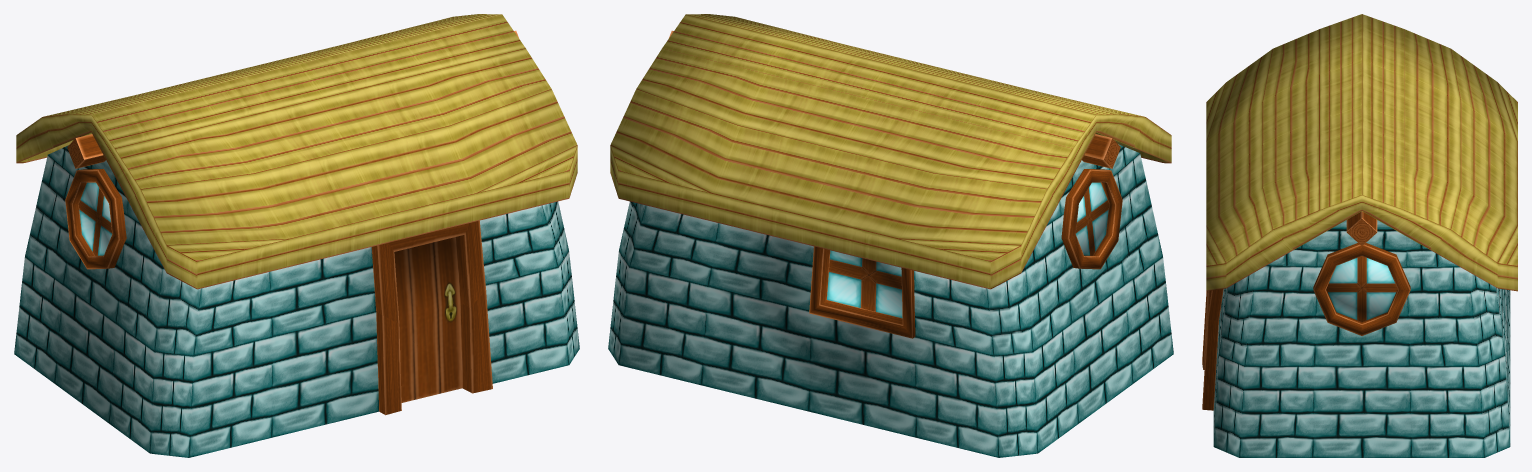
Rendered from Casa1_fix.glb.
3 views of the same model, side by side, from view 1: azimuth 30°, elevation 25°; view 2: azimuth 150°, elevation 25°; view 3: azimuth 270°, elevation 25° (orthographic). The views are drawn at different scales.
Parts seen in each view (by area): view 1: Casa_01; view 2: Casa_01; view 3: Casa_01.
Part boxes in pixels (x1,y1,x2,y2): Casa_01: [14, 14, 579, 457]; Casa_01: [608, 14, 1173, 457]; Casa_01: [1202, 14, 1517, 457].
Size of the model in its own units: 12.69 by 7.93 by 8.72.
Materials: 1 (1 with a texture image).
